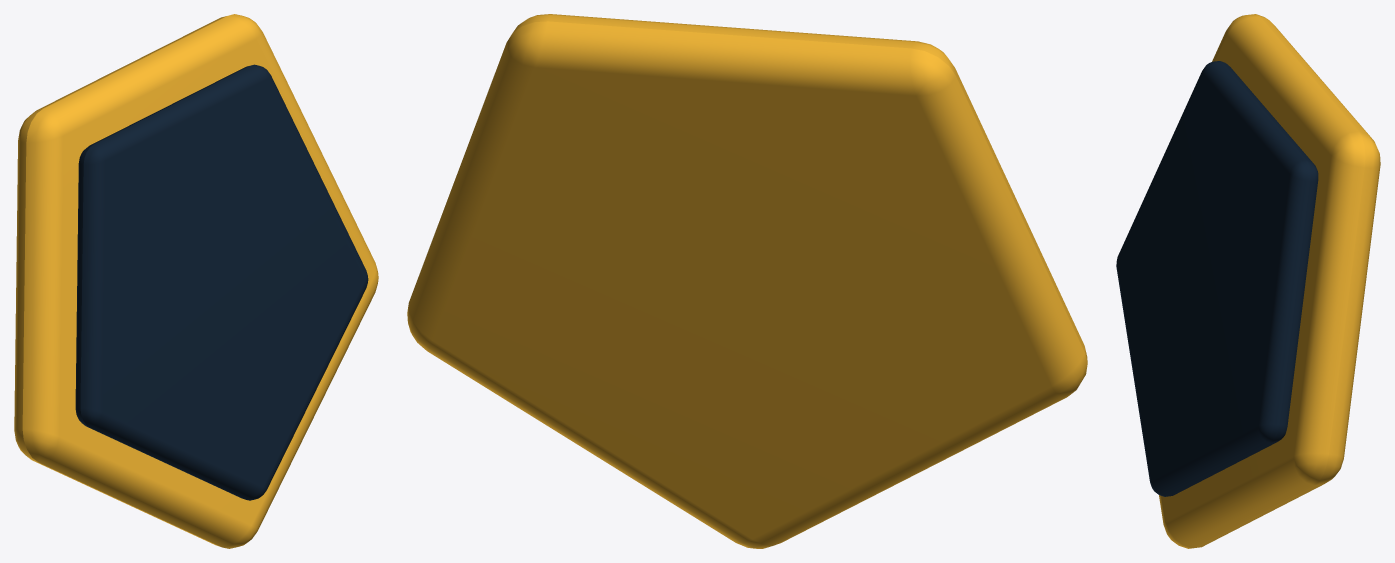
File: badge-gold.glb
3 renders of one model, left to right at view 1: azimuth 30°, elevation 25°; view 2: azimuth 150°, elevation 25°; view 3: azimuth 270°, elevation 25°, orthographic. The views are drawn at different scales.
Visible parts, largest first — view 1: Empty smooth face badge-gold, Rounded pentagon backing badge-gold; view 2: Rounded pentagon backing badge-gold; view 3: Empty smooth face badge-gold, Rounded pentagon backing badge-gold.
Part boxes in pixels (box(x1,y1,x2,y2)): Empty smooth face badge-gold: box(75, 64, 368, 500); Rounded pentagon backing badge-gold: box(14, 14, 378, 548); Rounded pentagon backing badge-gold: box(407, 14, 1087, 548); Empty smooth face badge-gold: box(1116, 61, 1318, 496); Rounded pentagon backing badge-gold: box(1159, 14, 1380, 548).
Size of the model in its own units: 4.26 by 4.16 by 2.2.
